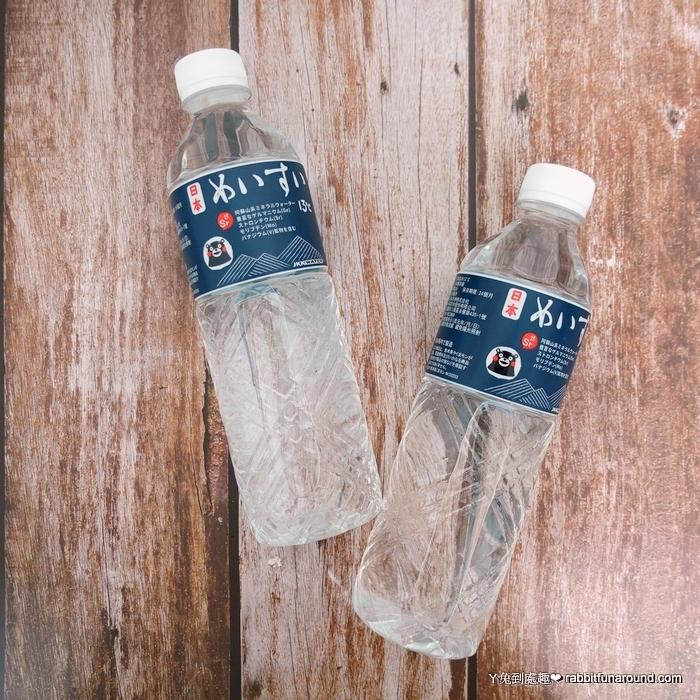plastic: (350, 159, 595, 658), (165, 46, 381, 543)
